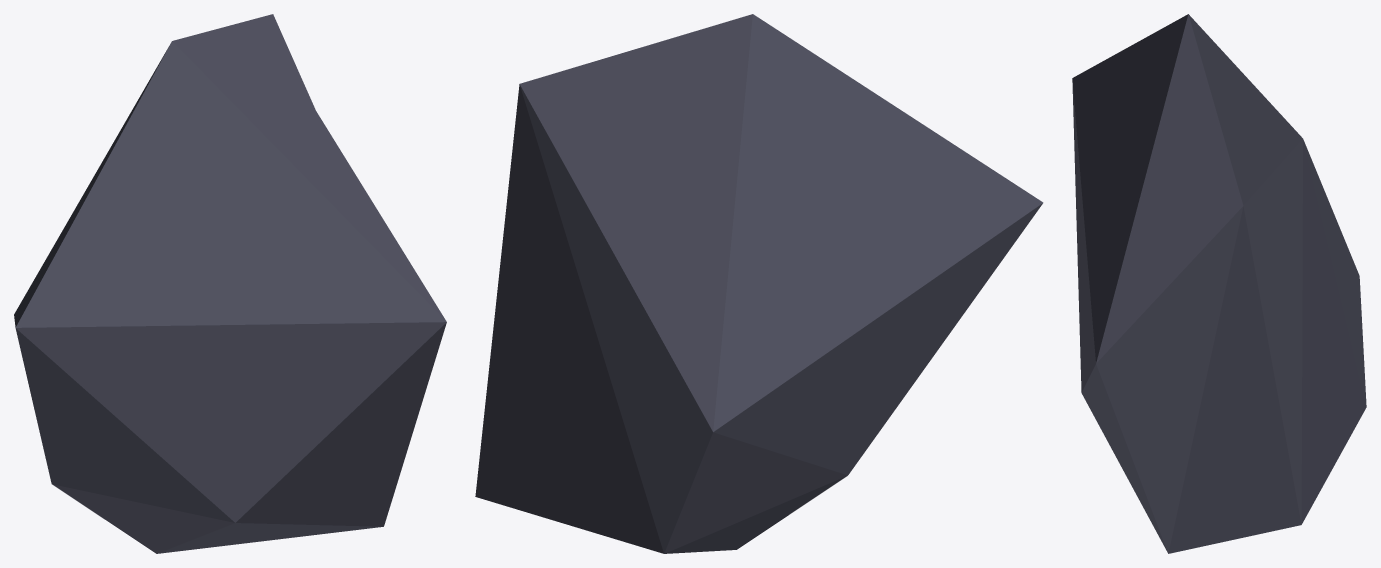
File: rock_02.fbx
The picture shows the model from 3 angles, left to right: view 1: azimuth 30°, elevation 25°; view 2: azimuth 150°, elevation 25°; view 3: azimuth 270°, elevation 25°; orthographic projection. The views are drawn at different scales.
Visible parts, largest first — view 1: Icosphere; view 2: Icosphere; view 3: Icosphere.
Part boxes in pixels (left/top/right/bottom): Icosphere: left=14, top=14, right=446, bottom=553; Icosphere: left=475, top=14, right=1043, bottom=553; Icosphere: left=1072, top=14, right=1366, bottom=553.
Size of the model in its own units: 660 by 746 by 437.
